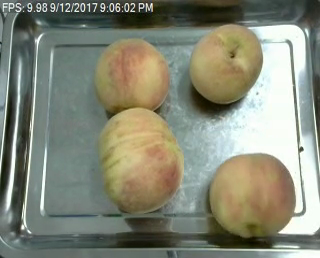Peach: (98, 108, 184, 215), (206, 152, 297, 239), (189, 22, 262, 105), (93, 36, 169, 113)
